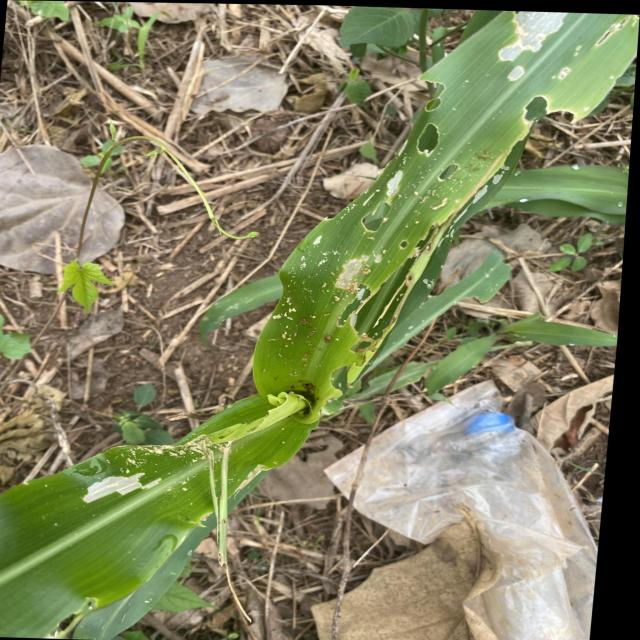fall-armyworm-egg: (133, 431, 226, 466), (303, 312, 339, 349), (277, 323, 309, 358), (276, 292, 302, 328), (351, 261, 381, 291), (322, 278, 346, 304)
fall-armyworm-larval-damage: (327, 209, 473, 408), (24, 585, 128, 640), (215, 391, 305, 448), (81, 468, 176, 514), (227, 459, 288, 510)
